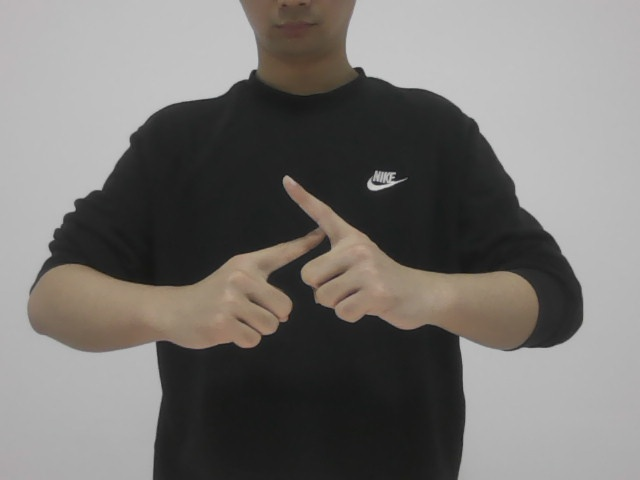peason: (189, 174, 409, 347)
